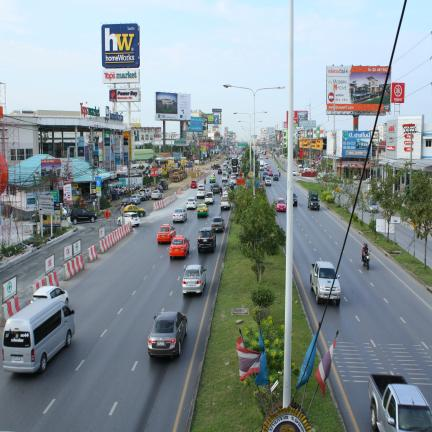car: (148, 311, 187, 358), (310, 261, 341, 305), (29, 286, 69, 305), (182, 264, 206, 294), (197, 227, 216, 253), (69, 208, 97, 224), (211, 216, 225, 232), (124, 212, 140, 226), (173, 208, 187, 223), (186, 197, 197, 209), (139, 189, 149, 201), (204, 192, 214, 204), (197, 185, 206, 198), (227, 180, 235, 190), (230, 174, 237, 184), (221, 172, 228, 182), (221, 190, 228, 199), (190, 180, 197, 188), (117, 216, 123, 225), (217, 168, 222, 174), (223, 161, 227, 166), (394, 429, 396, 430), (386, 430, 389, 430), (34, 221, 35, 221), (236, 181, 236, 184)
motorbike: (204, 178, 206, 184)
pickup: (310, 261, 341, 305), (137, 189, 149, 201), (220, 197, 231, 210), (197, 187, 206, 198), (213, 183, 220, 194), (226, 167, 232, 175), (212, 164, 221, 169)
taxi: (169, 235, 189, 258), (157, 224, 175, 243), (124, 205, 146, 216), (197, 204, 208, 217), (209, 174, 215, 183)
truck: (308, 189, 320, 211), (139, 189, 150, 201)
van: (2, 299, 75, 373)
